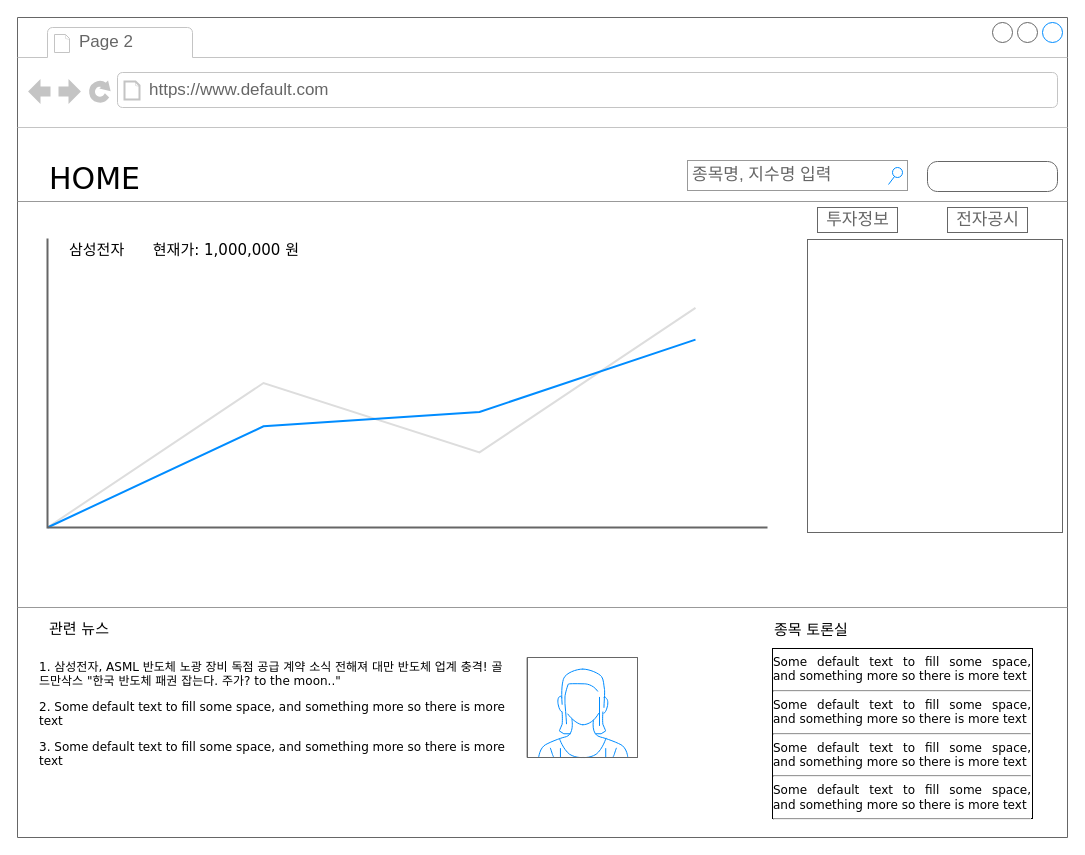
This 1085x855 diagram has some shape labels left out. The shapes that lost their labels are listed below. From the top down, each one's centre as x and y in pixels, then its label:
At point 992,176: "MY PAGE".
At point 934,369: "시가총액".
